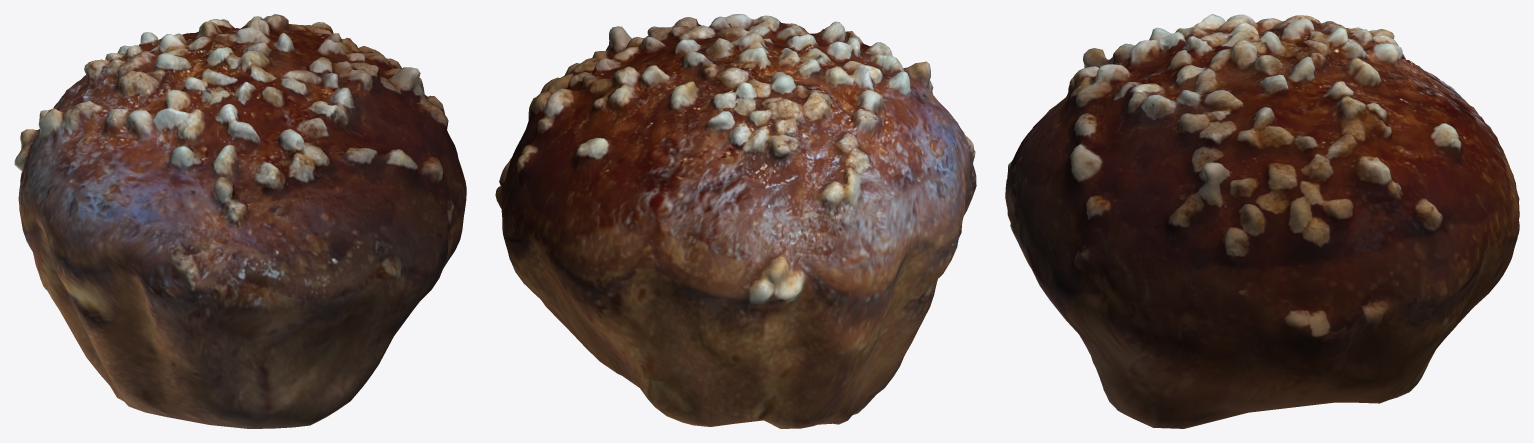
Rendered from outputResult.obj.
3 renders of one model, left to right at view 1: azimuth 30°, elevation 25°; view 2: azimuth 150°, elevation 25°; view 3: azimuth 270°, elevation 25°, orthographic. The views are drawn at different scales.
Parts seen in each view (by area): view 1: submesh; view 2: submesh; view 3: submesh.
Part boxes in pixels (x1,y1,x2,y2): submesh: (14, 14, 466, 428); submesh: (495, 14, 976, 428); submesh: (1005, 14, 1519, 428).
Size of the model in its own units: 0.071 by 0.0572 by 0.0718.
Materials: 1 (1 with a texture image).
